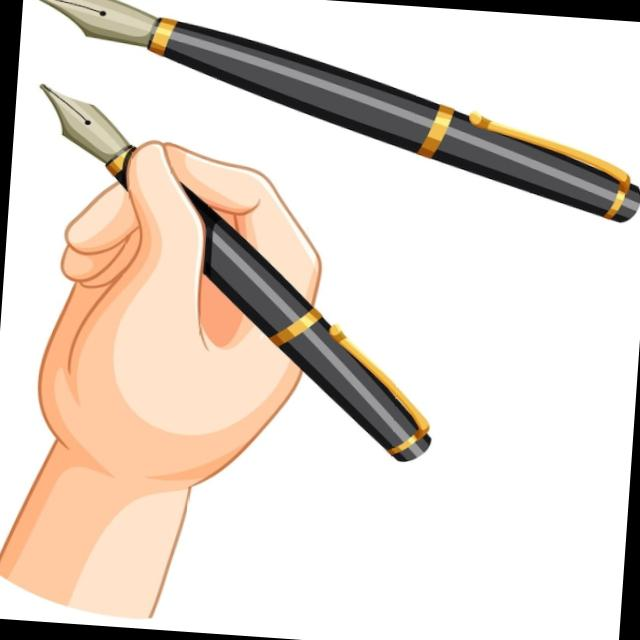pen: (18, 72, 444, 475), (32, 0, 640, 261)
